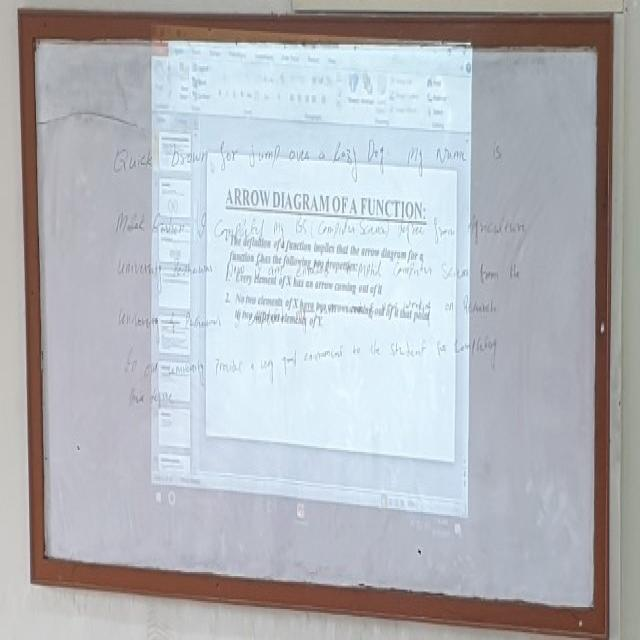Slide: (146, 21, 476, 549)
White-board: (28, 21, 608, 622)
